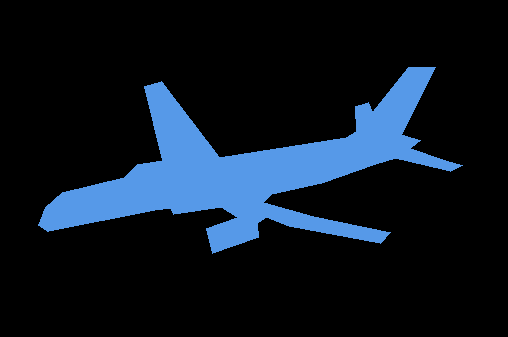Airplane: (38, 67, 463, 253)
